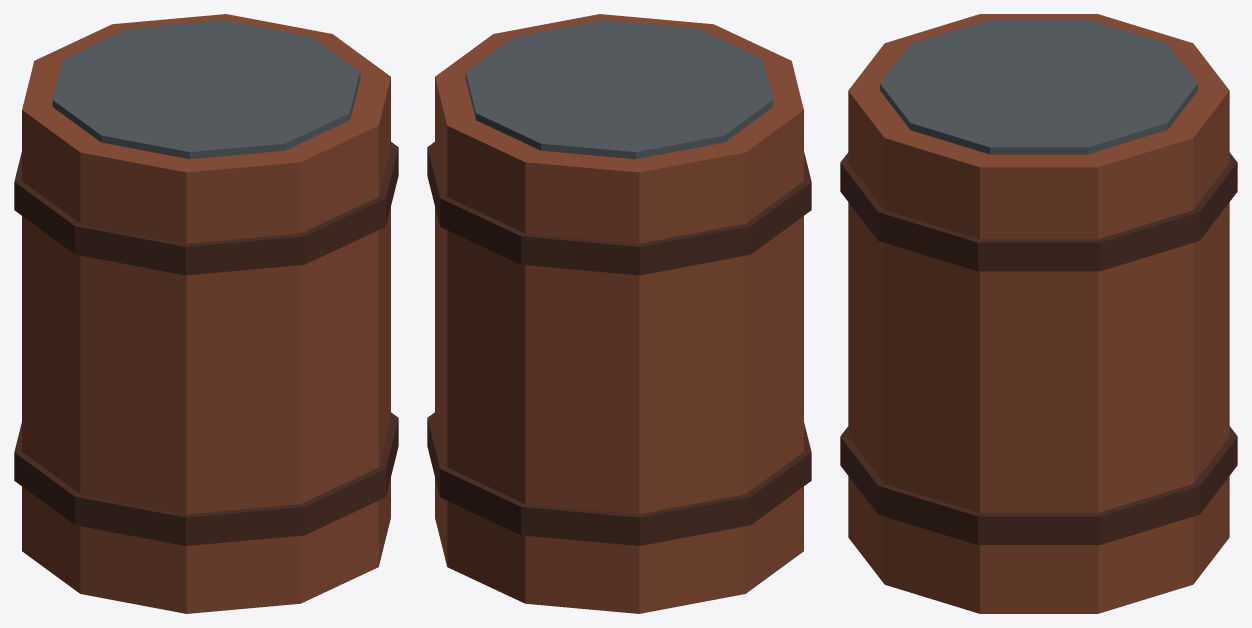
The model's file is deco_barrel.glb.
3 views of the same model, side by side, from view 1: azimuth 30°, elevation 25°; view 2: azimuth 150°, elevation 25°; view 3: azimuth 270°, elevation 25° (orthographic).
Visible parts, largest first — view 1: barrel, lid, hoop0.5, hoop0.12; view 2: barrel, lid, hoop0.5, hoop0.12; view 3: barrel, lid, hoop0.5, hoop0.12.
Boxes of the visible parts, bbox=[...] form: barrel: bbox=[22, 14, 390, 613]; lid: bbox=[52, 20, 360, 159]; hoop0.5: bbox=[14, 142, 398, 275]; hoop0.12: bbox=[14, 412, 398, 545]; barrel: bbox=[435, 14, 803, 613]; lid: bbox=[465, 20, 773, 159]; hoop0.5: bbox=[427, 142, 811, 275]; hoop0.12: bbox=[427, 412, 811, 545]; barrel: bbox=[848, 14, 1229, 613]; lid: bbox=[880, 19, 1197, 154]; hoop0.5: bbox=[840, 152, 1237, 271]; hoop0.12: bbox=[840, 426, 1237, 544].
Bounding box in the file's own units: 0.4755 × 0.63 × 0.5.
